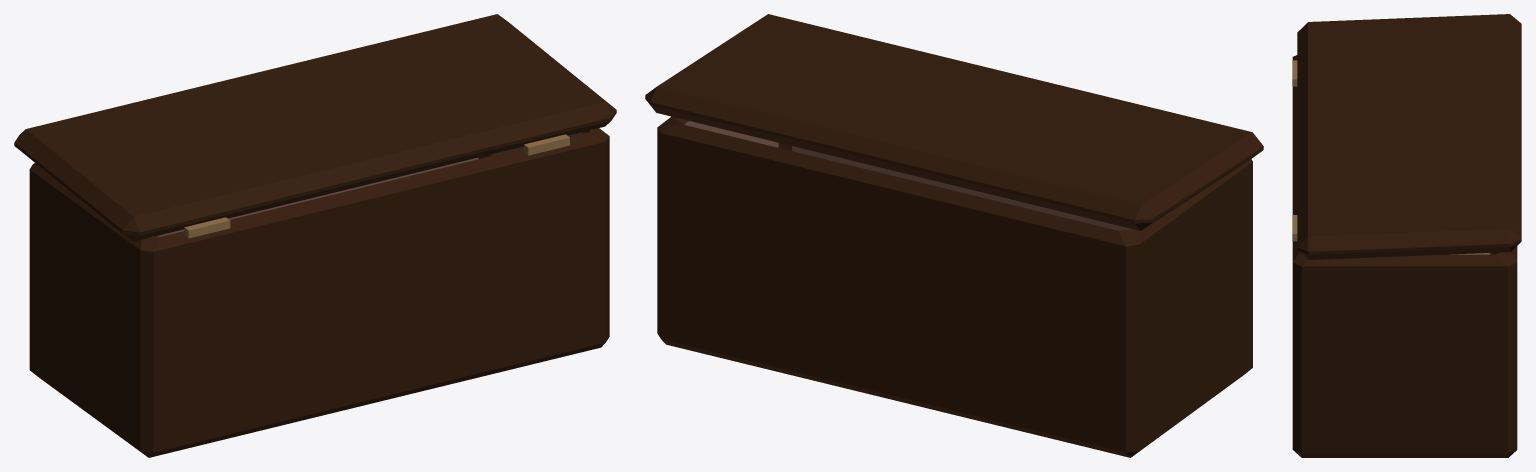
Rendered from chest.fbx.
3 renders of one model, left to right at view 1: azimuth 30°, elevation 25°; view 2: azimuth 150°, elevation 25°; view 3: azimuth 270°, elevation 25°, orthographic. The views are drawn at different scales.
Visible parts, largest first — view 1: Chest_bottom, Chest_lid; view 2: Chest_bottom, Chest_lid; view 3: Chest_lid, Chest_bottom.
Part boxes in pixels (left/top/right/bottom): Chest_bottom: left=29, top=128, right=609, bottom=457; Chest_lid: left=14, top=14, right=616, bottom=241; Chest_bottom: left=657, top=116, right=1252, bottom=457; Chest_lid: left=645, top=14, right=1263, bottom=230; Chest_lid: left=1297, top=14, right=1521, bottom=259; Chest_bottom: left=1292, top=55, right=1517, bottom=457.
Bounding box in the file's own units: 474 × 229 × 205.
